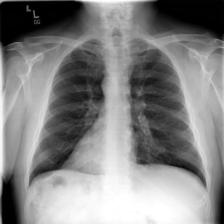normal: (24, 34, 210, 192)
